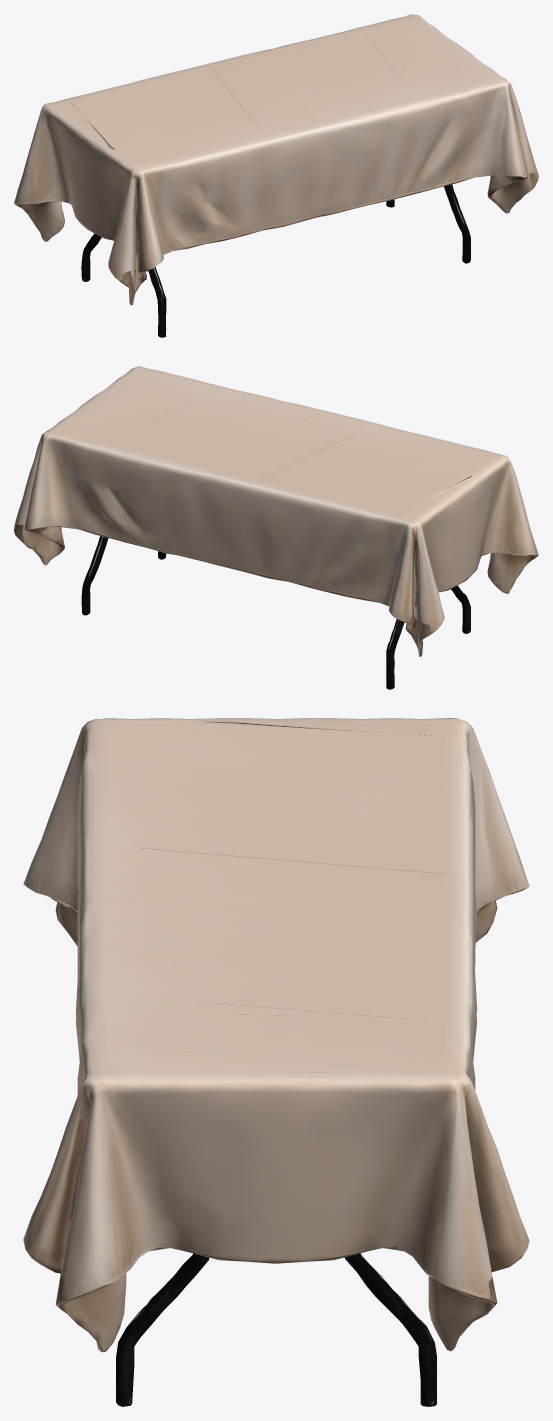
The model's file is BNQ_TBLE_CHAMP_LINEN__0630194339_texture.glb.
The picture shows the model from 3 angles, top to bottom: view 1: azimuth 30°, elevation 25°; view 2: azimuth 150°, elevation 25°; view 3: azimuth 270°, elevation 25°; orthographic projection. The views are drawn at different scales.
Visible parts, largest first — view 1: Mesh_0.003; view 2: Mesh_0.003; view 3: Mesh_0.003.
Boxes of the visible parts, box(x1,y1,x2,y2) form: Mesh_0.003: box(14, 14, 538, 337); Mesh_0.003: box(14, 366, 538, 689); Mesh_0.003: box(23, 718, 529, 1406).
Bounding box in the file's own units: 1.89 × 0.762 × 0.9758.
Materials: 1 (1 with a texture image).
